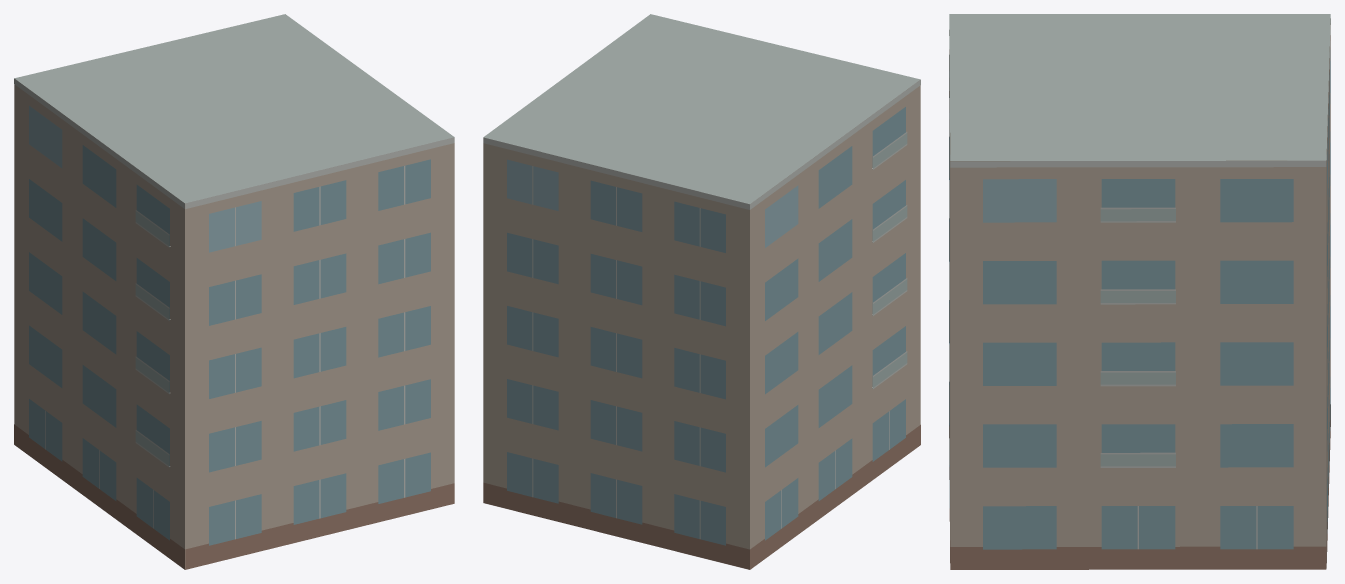
Rendered from survey-upis-32832822.glb.
3 views of the same model, side by side, from view 1: azimuth 30°, elevation 25°; view 2: azimuth 150°, elevation 25°; view 3: azimuth 270°, elevation 25° (orthographic). The views are drawn at different scales.
Parts seen in each view (by area): view 1: survey-upis-32832822.tmp; view 2: survey-upis-32832822.tmp; view 3: survey-upis-32832822.tmp.
Boxes of the visible parts, left/top/right/bottom form: survey-upis-32832822.tmp: left=14, top=14, right=454, bottom=569; survey-upis-32832822.tmp: left=483, top=14, right=920, bottom=569; survey-upis-32832822.tmp: left=949, top=14, right=1330, bottom=569.
Bounding box in the file's own units: 12.05 × 15.53 × 13.15.
